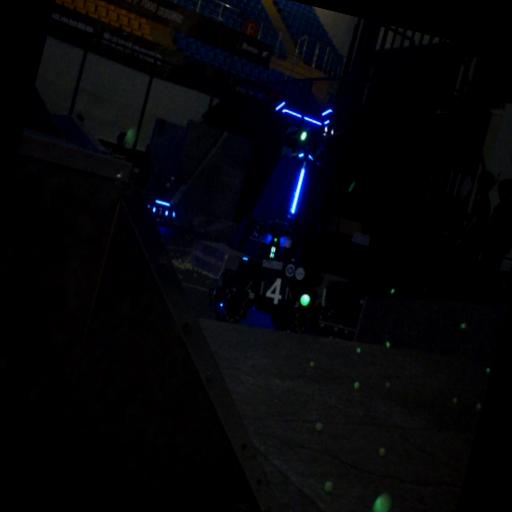target: (150, 201, 172, 226)
